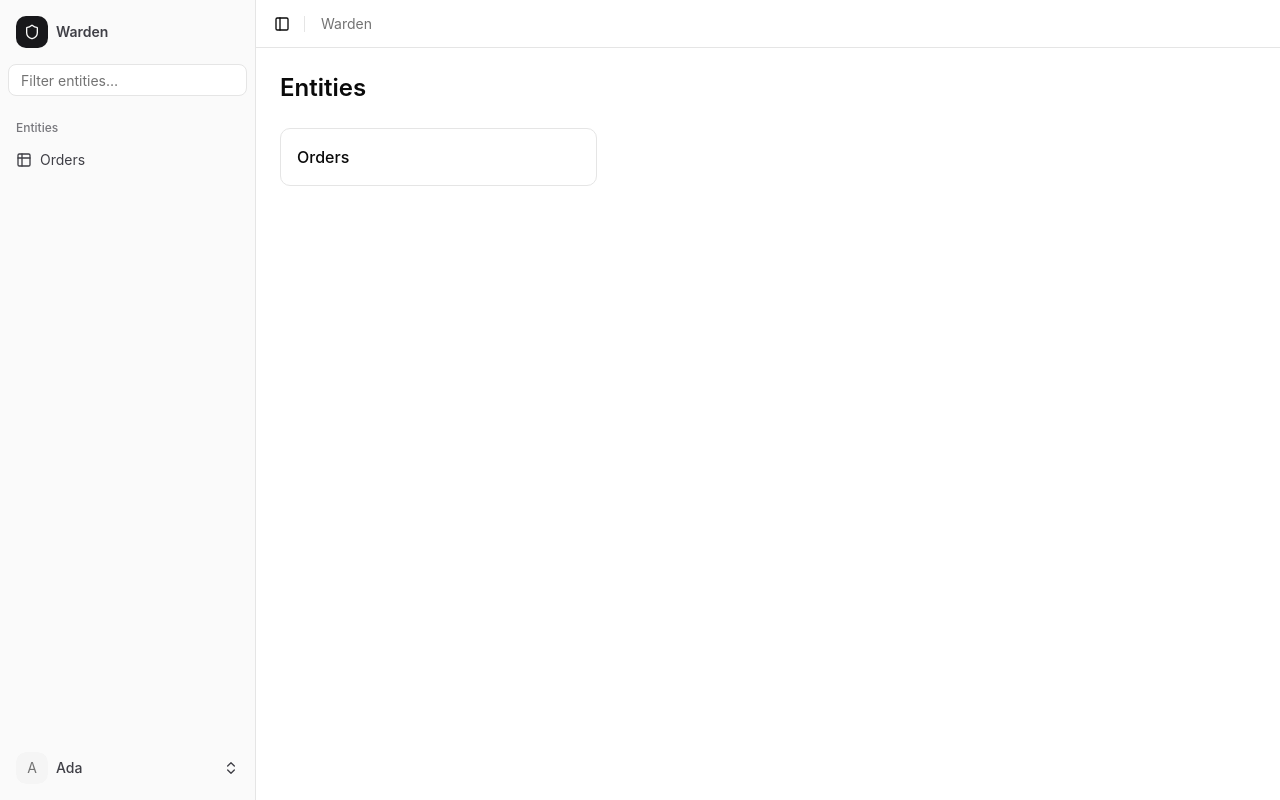
Test: keyboard shortcuts dialog › opens from the user menu
What coordinates should you click on to do the following:
click the button with aria-label "Account"
I would click on:
 (128, 768)
Its box is [8,744,247,792].
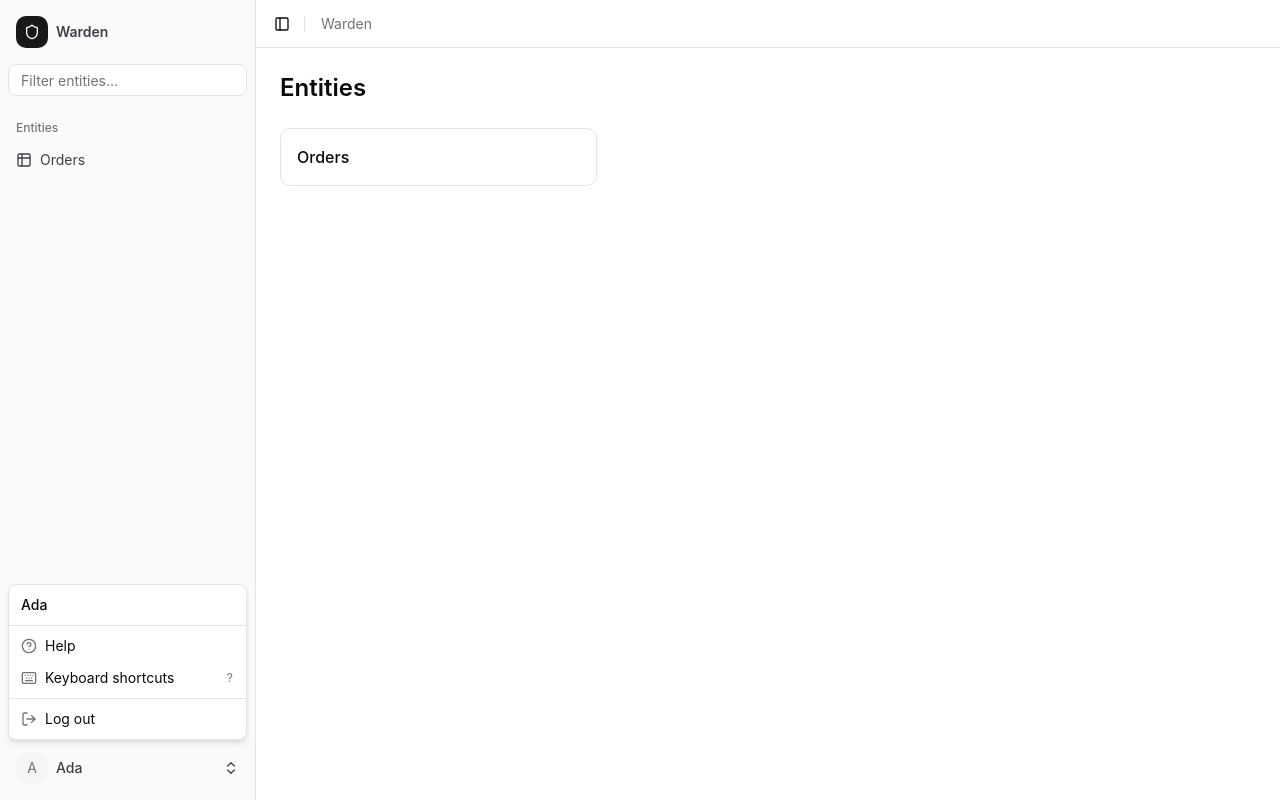
What coordinates should you click on to do the following:
click the menu item "Keyboard shortcuts ?"
I would click on:
 (128, 678)
Its box is [21,669,234,686].
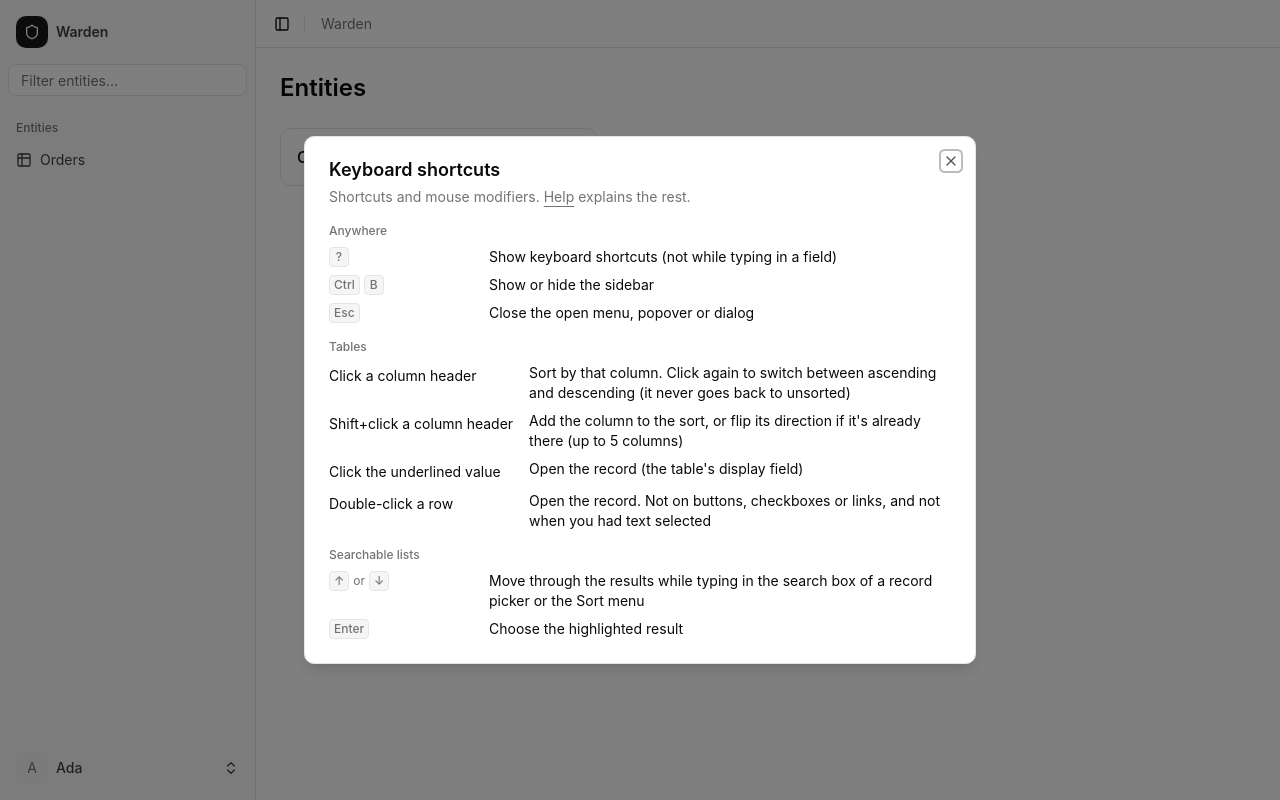
Result: the dialog "Keyboard shortcuts" is shown at [304,136,976,664]
